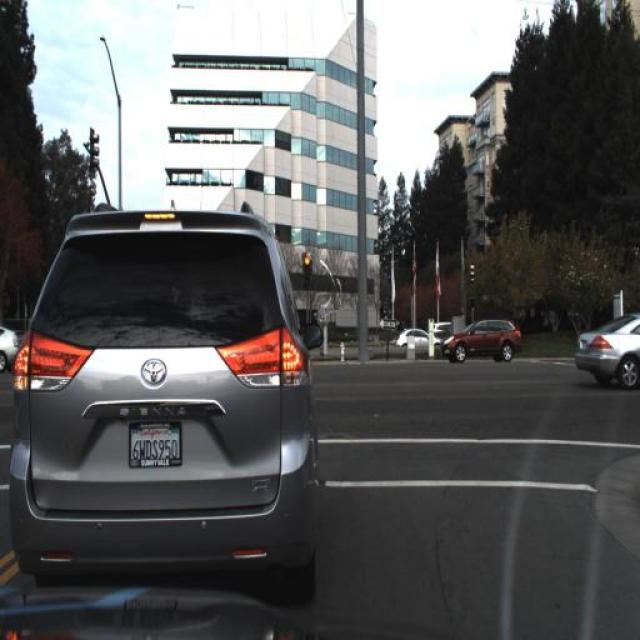car: (5, 200, 324, 582), (574, 311, 640, 389), (438, 318, 524, 367), (394, 327, 440, 352)
trafficLight-RedLeft: (300, 245, 314, 290)
